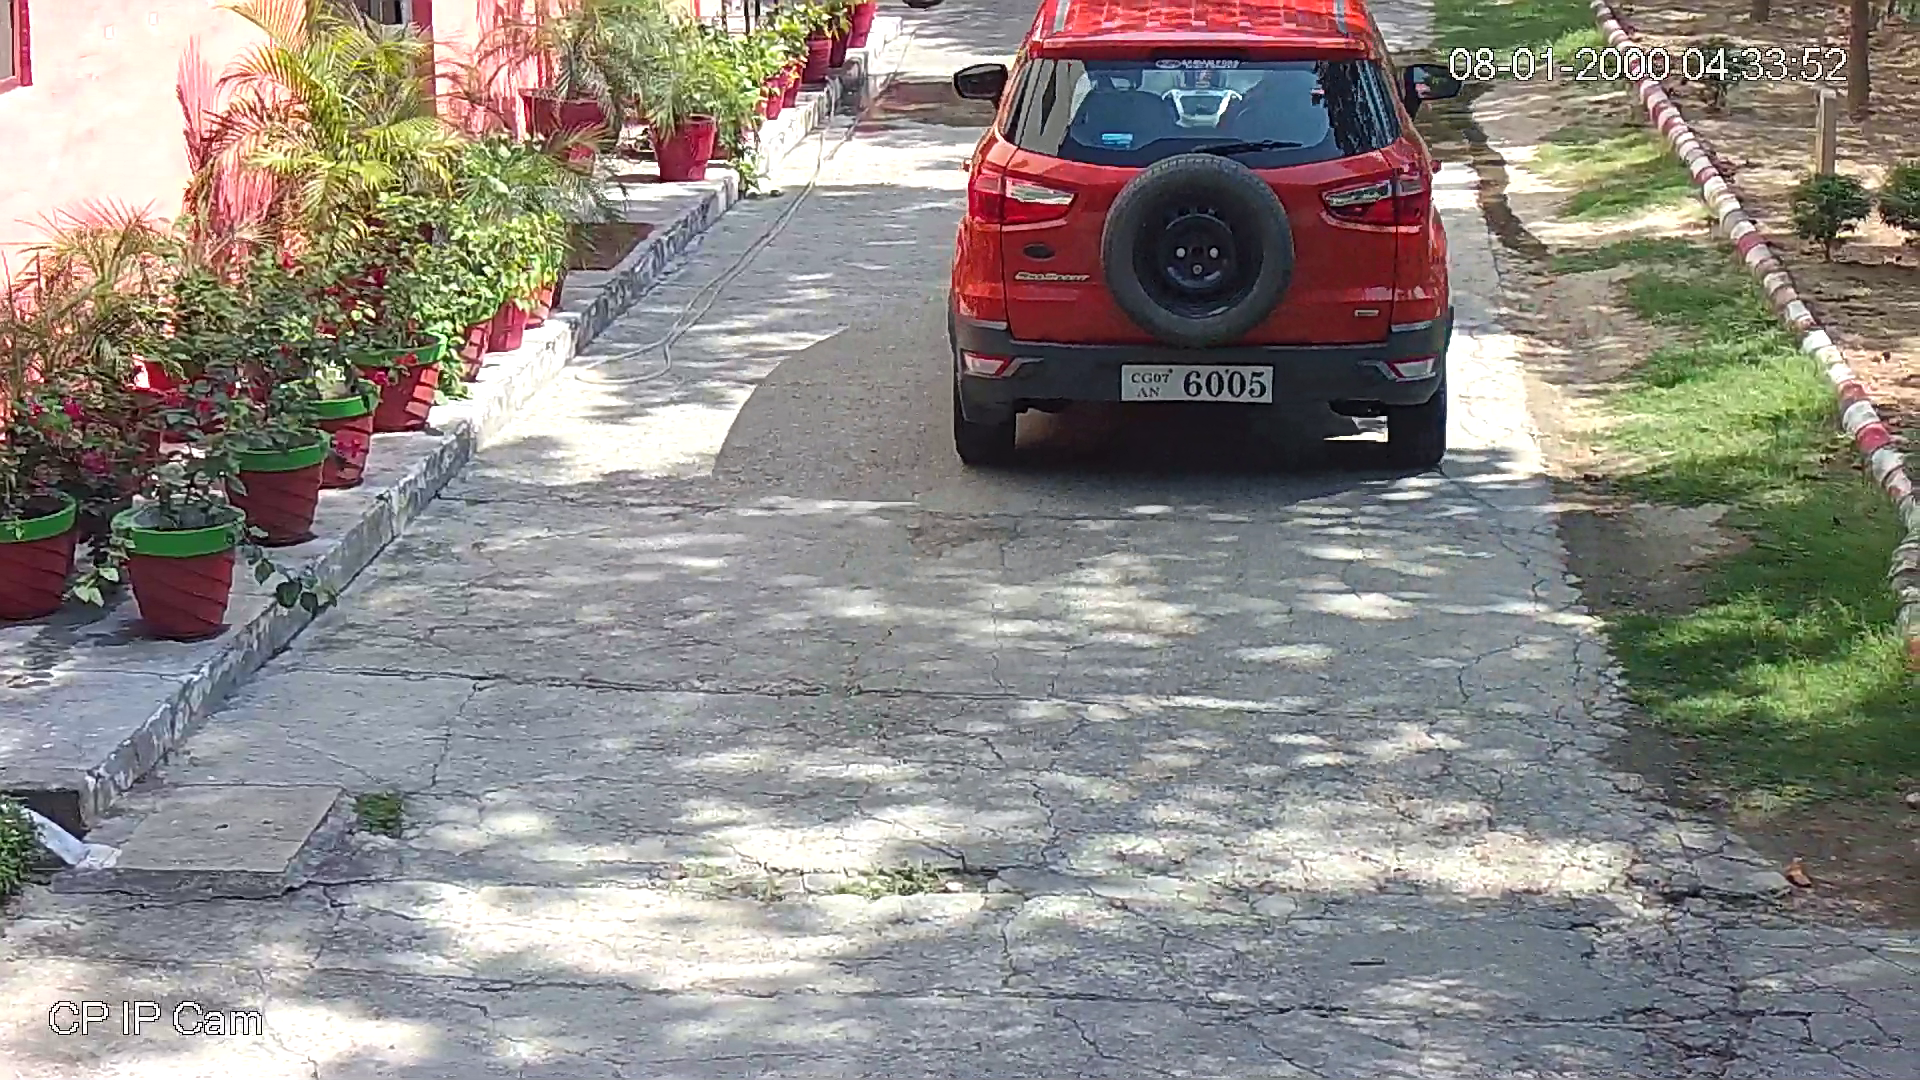plate: (1122, 359, 1275, 403)
